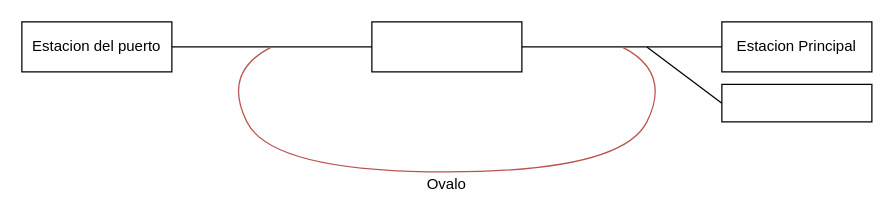
The diagram is 894 pixels wide and 219 high, and some of its shapes have lost their labels. Here are the shapes that lost their labels. From the top down, the centre of each, then its label:
At point 446,46: "Apadero".
At point 796,102: "Talleres".
